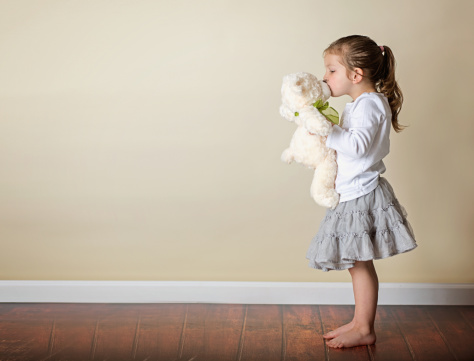em pe: (284, 19, 418, 358)
